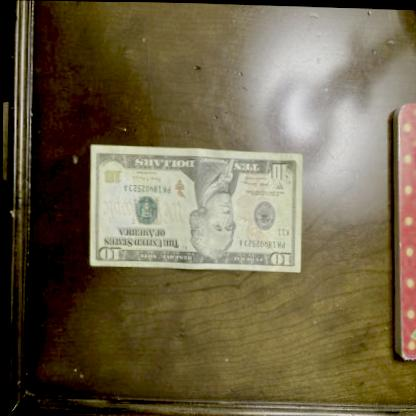dollar_front: (87, 144, 303, 272)
